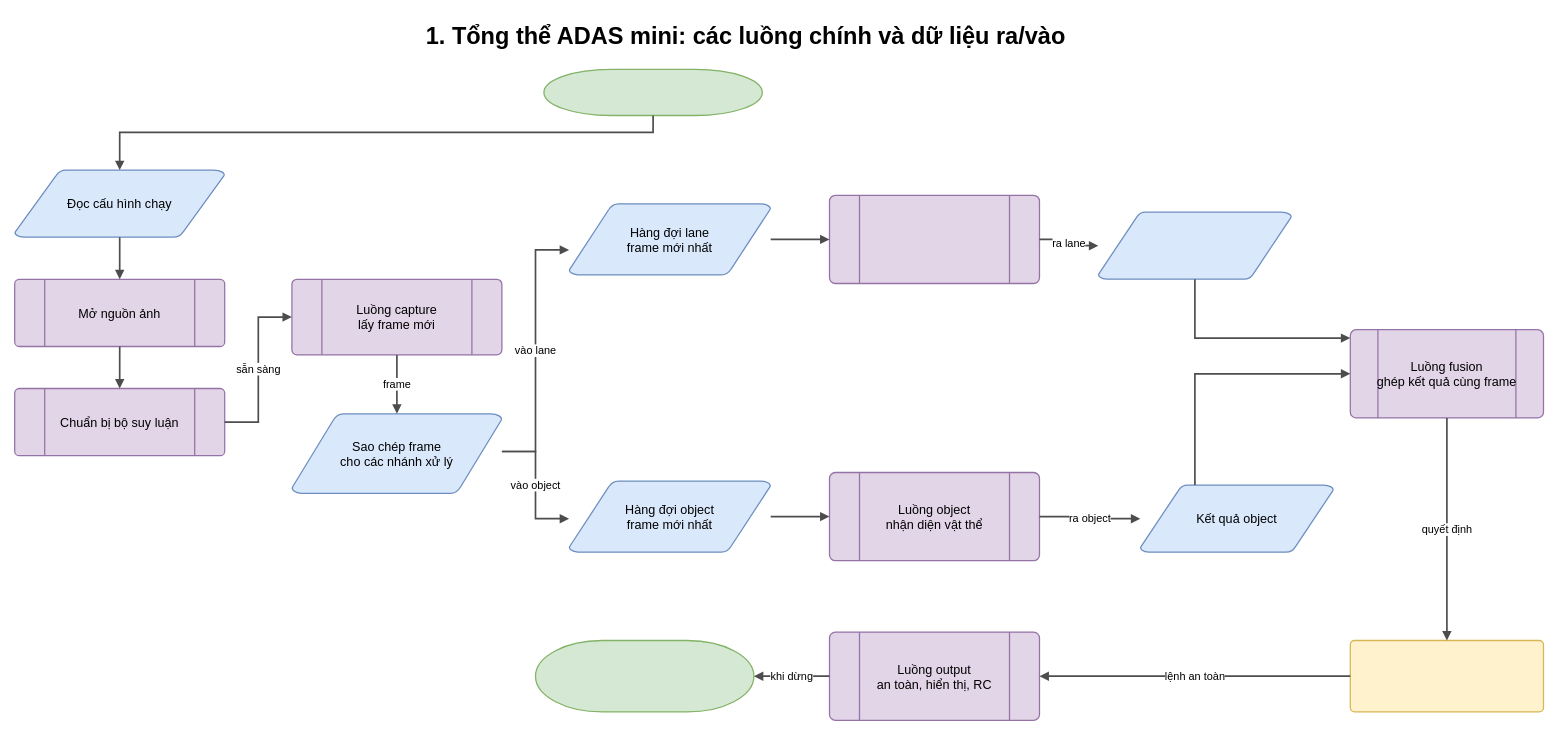
Some shapes in this 1559 by 735 pixel diagram are drawn without their labels. The centre of each missing label's shape, as x and y in pixels:
"Dừng hệ thống đóng tài nguyên" goes at [644,675].
"Khởi động hệ thống" goes at [653,92].
"Kết quả lane" goes at [1194,245].
"Luồng lane nhận diện làn đường" goes at [934,239].
"Quyết định điều khiển" goes at [1446,675].
